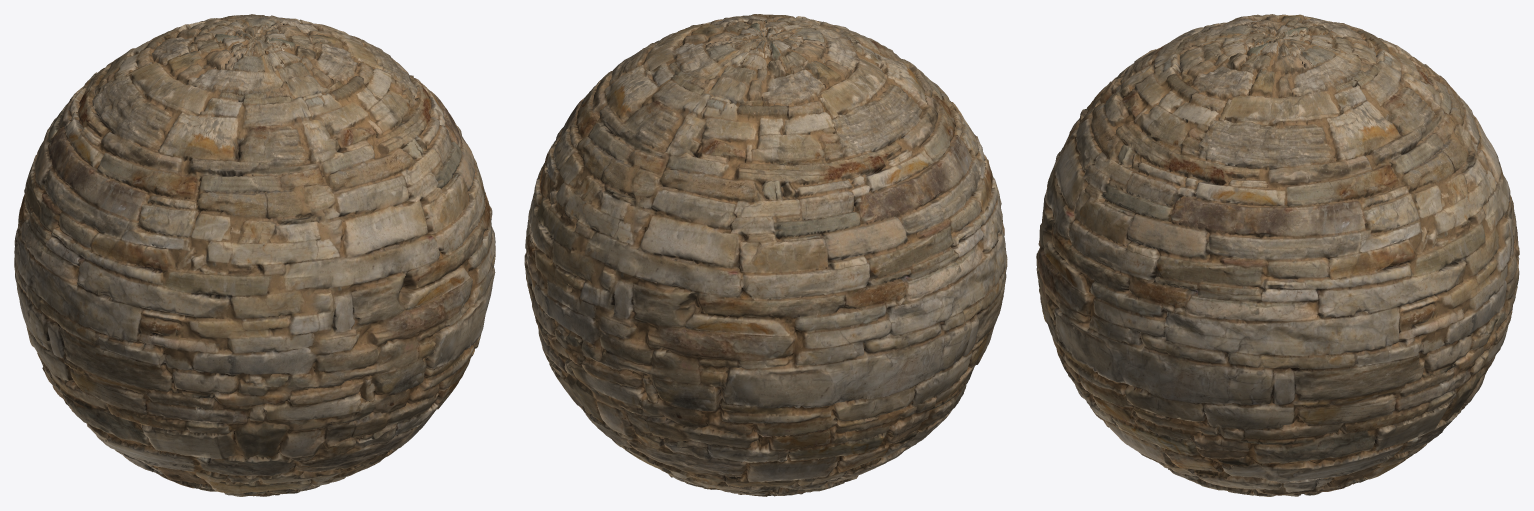
Rendered from rustic_stone_wall_02_1k.gltf.
The picture shows the model from 3 angles, left to right: view 1: azimuth 30°, elevation 25°; view 2: azimuth 150°, elevation 25°; view 3: azimuth 270°, elevation 25°; orthographic projection.
Visible parts, largest first — view 1: sphere_gltf; view 2: sphere_gltf; view 3: sphere_gltf.
Part boxes in pixels (x1,y1,x2,y2): sphere_gltf: (14,14,495,496); sphere_gltf: (524,14,1007,496); sphere_gltf: (1036,14,1519,496).
Bounding box in the file's own units: 1.56 × 1.56 × 1.56.
Materials: 1 (1 with a texture image).
